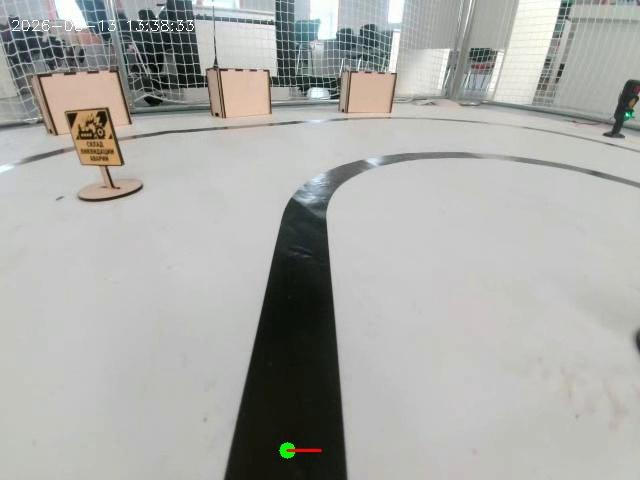flood: (61, 94, 152, 221)
